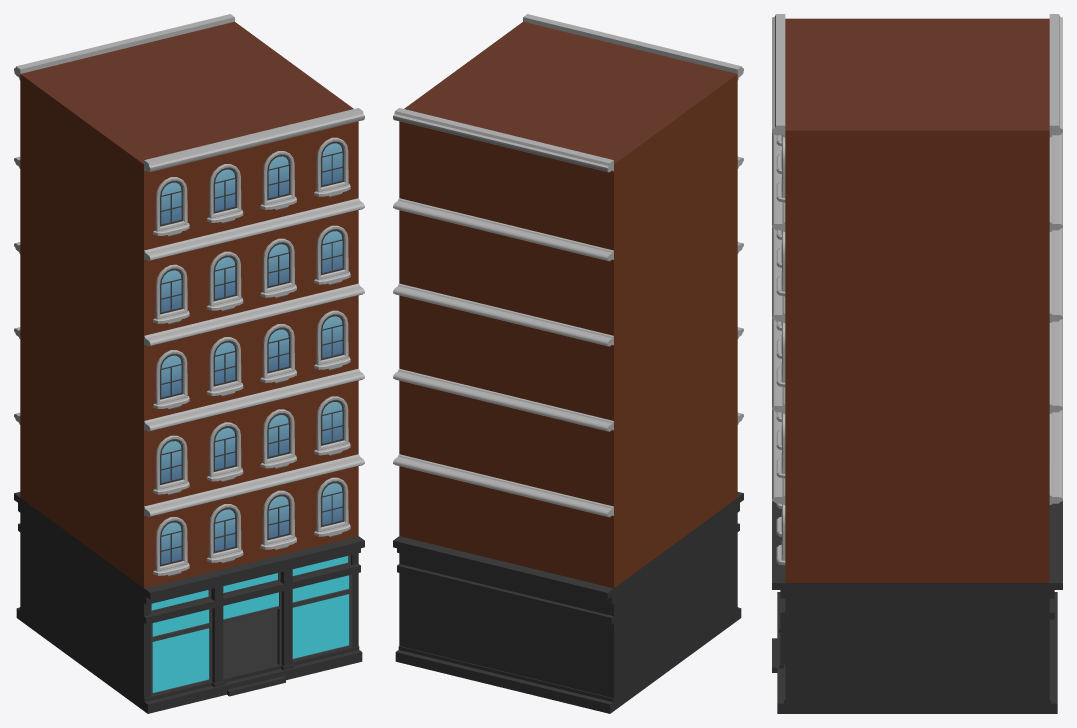
File: SM_Buildings_House_05_V2.fbx
3 views of the same model, side by side, from view 1: azimuth 30°, elevation 25°; view 2: azimuth 150°, elevation 25°; view 3: azimuth 270°, elevation 25° (orthographic). The views are drawn at different scales.
Visible parts, largest first — view 1: SM_Buildings_House_05_V2; view 2: SM_Buildings_House_05_V2; view 3: SM_Buildings_House_05_V2.
Part boxes in pixels (x1,y1,x2,y2): SM_Buildings_House_05_V2: (14,14,364,713); SM_Buildings_House_05_V2: (393,14,743,713); SM_Buildings_House_05_V2: (772,14,1062,713).
Size of the model in its own units: 10 by 24.55 by 11.
